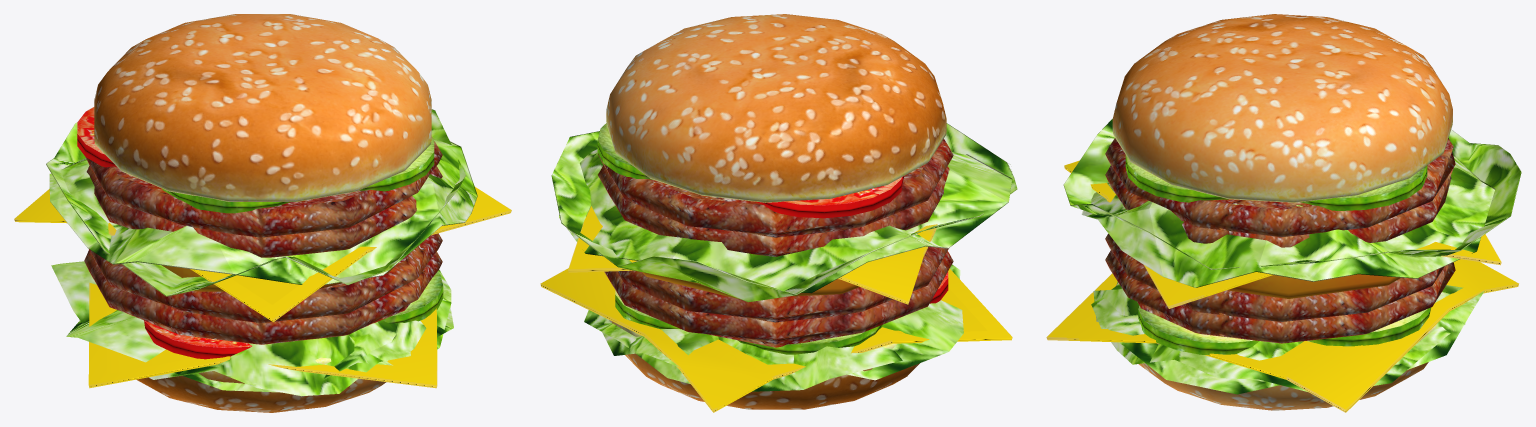
File: burger.fbx
3 renders of one model, left to right at view 1: azimuth 30°, elevation 25°; view 2: azimuth 150°, elevation 25°; view 3: azimuth 270°, elevation 25°, orthographic.
Parts seen in each view (by area): view 1: polySurface2; view 2: polySurface2; view 3: polySurface2.
Boxes of the visible parts, x1=… form: polySurface2: x1=14, y1=14, x2=511, y2=412; polySurface2: x1=540, y1=14, x2=1017, y2=412; polySurface2: x1=1046, y1=14, x2=1521, y2=412.
Bounding box in the file's own units: 16.84 × 12.47 × 16.95.
Materials: 1 (1 with a texture image).
